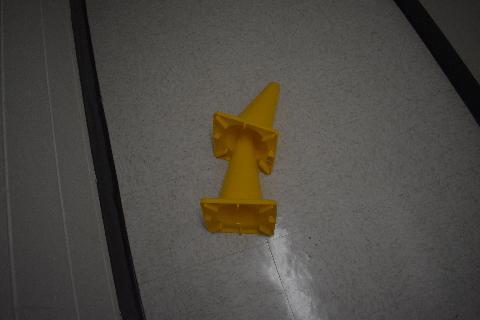cone: (201, 132, 277, 236), (213, 81, 281, 175)
